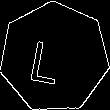L_N: (35, 30, 74, 85)
